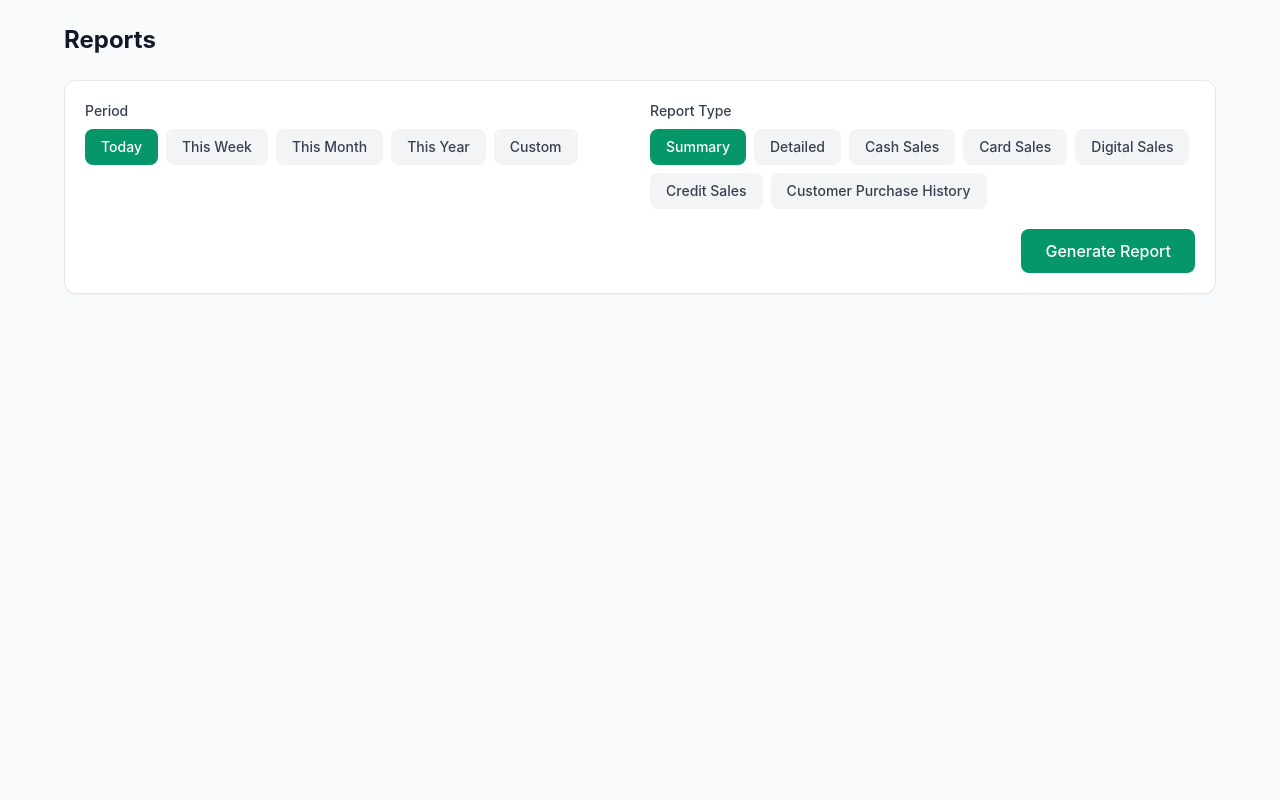
it: ReportsPage Payment Method Reports › Report Summary Cards › Print Functionality › should show print button after generating payment method report
This screenshot has width=1280, height=800.
Step 1. Click the button "Cash Sales" → (902,147), box [849, 129, 955, 165]
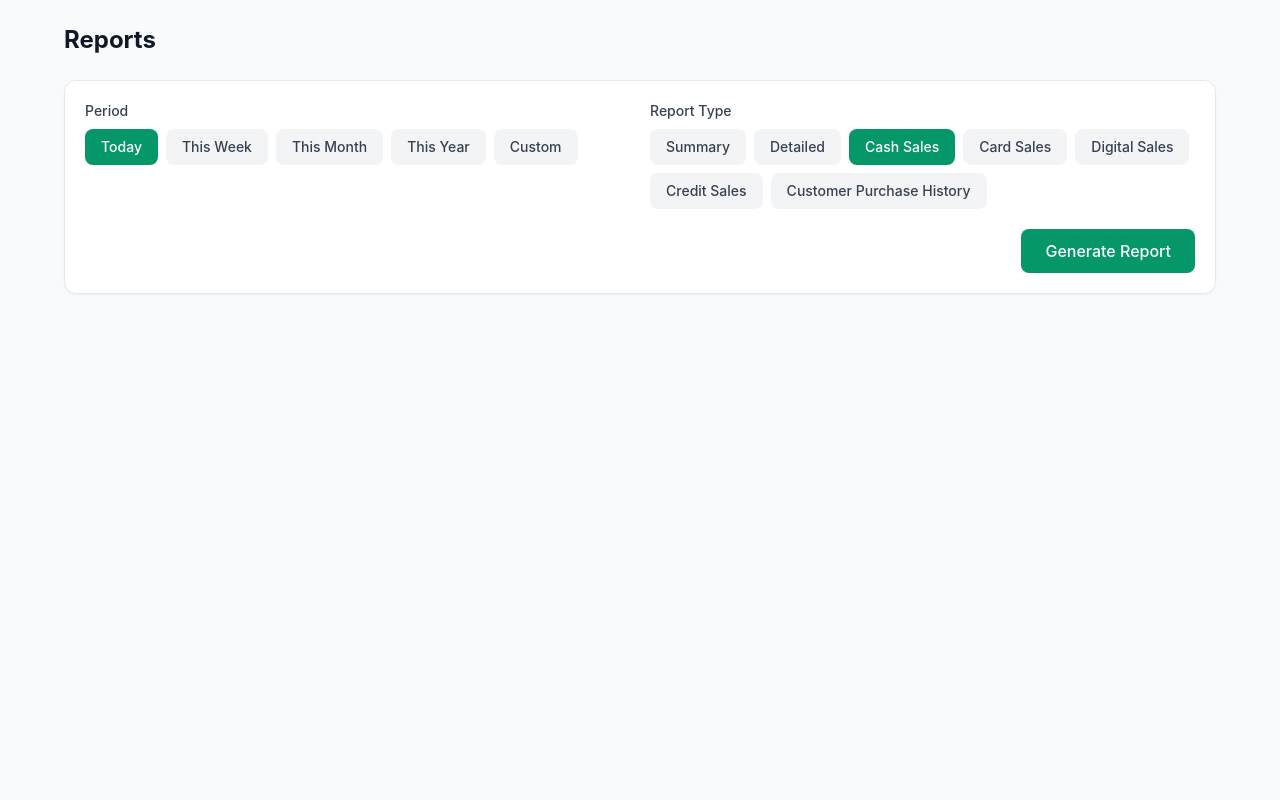
Step 2. Click the button "Generate Report" → (1108,251), box [1022, 229, 1195, 273]
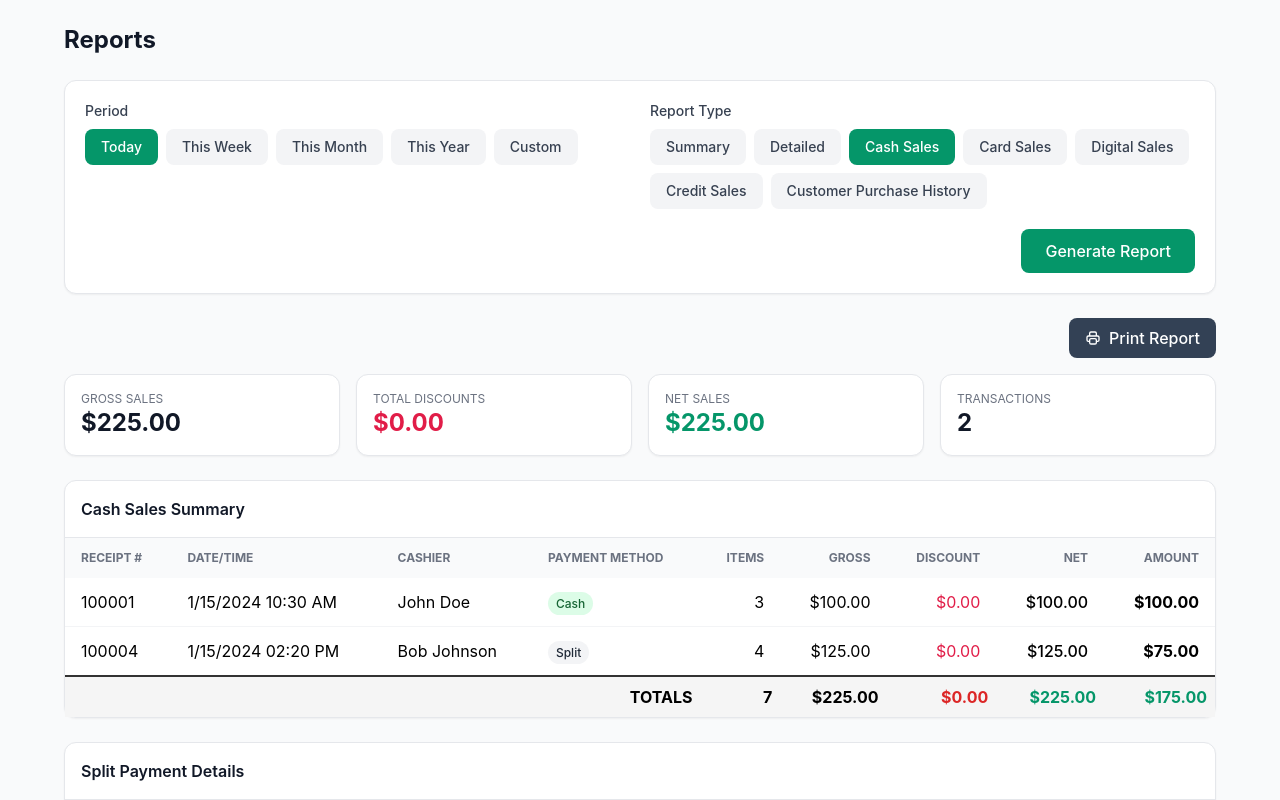
Check: the button "Print Report" is shown, box [1069, 318, 1216, 358]
